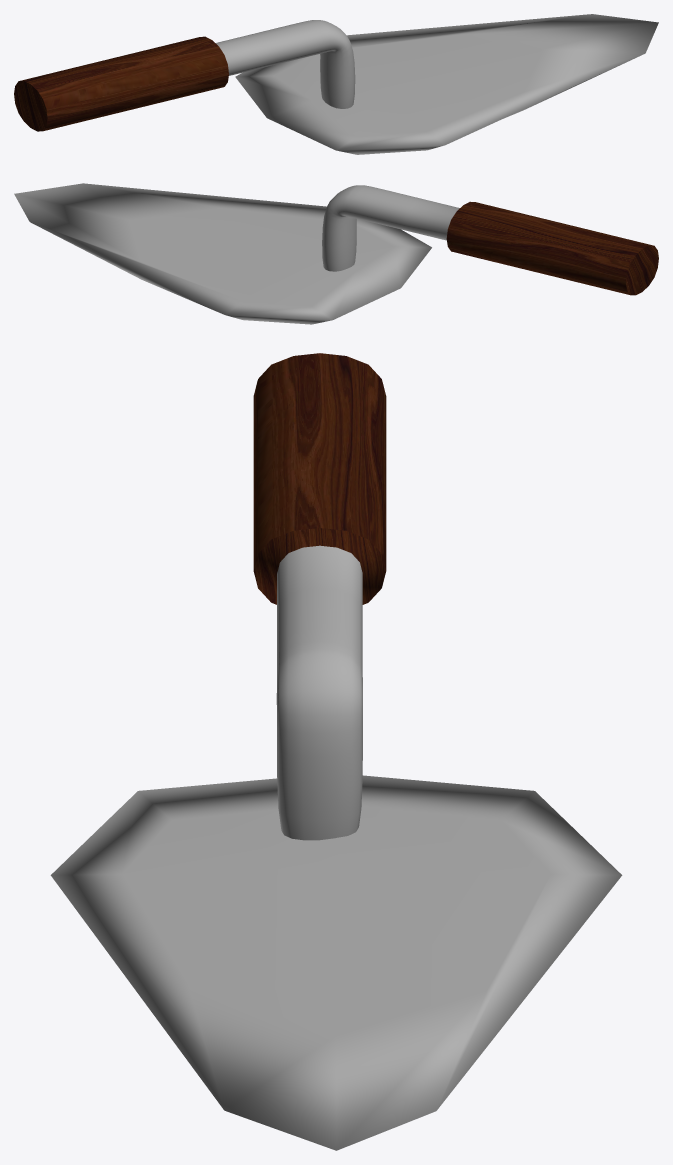
3 renders of one model, top to bottom at view 1: azimuth 30°, elevation 25°; view 2: azimuth 150°, elevation 25°; view 3: azimuth 270°, elevation 25°, orthographic. The views are drawn at different scales.
Visible parts, largest first — view 1: pCube27; view 2: pCube27; view 3: pCube27.
Boxes of the visible parts, left/top/right/bottom form: pCube27: left=14, top=14, right=658, bottom=154; pCube27: left=14, top=183, right=658, bottom=324; pCube27: left=50, top=353, right=622, bottom=1150.
Bounding box in the file's own units: 3.3 × 0.6082 × 1.31.
2 materials, 1 textured.
